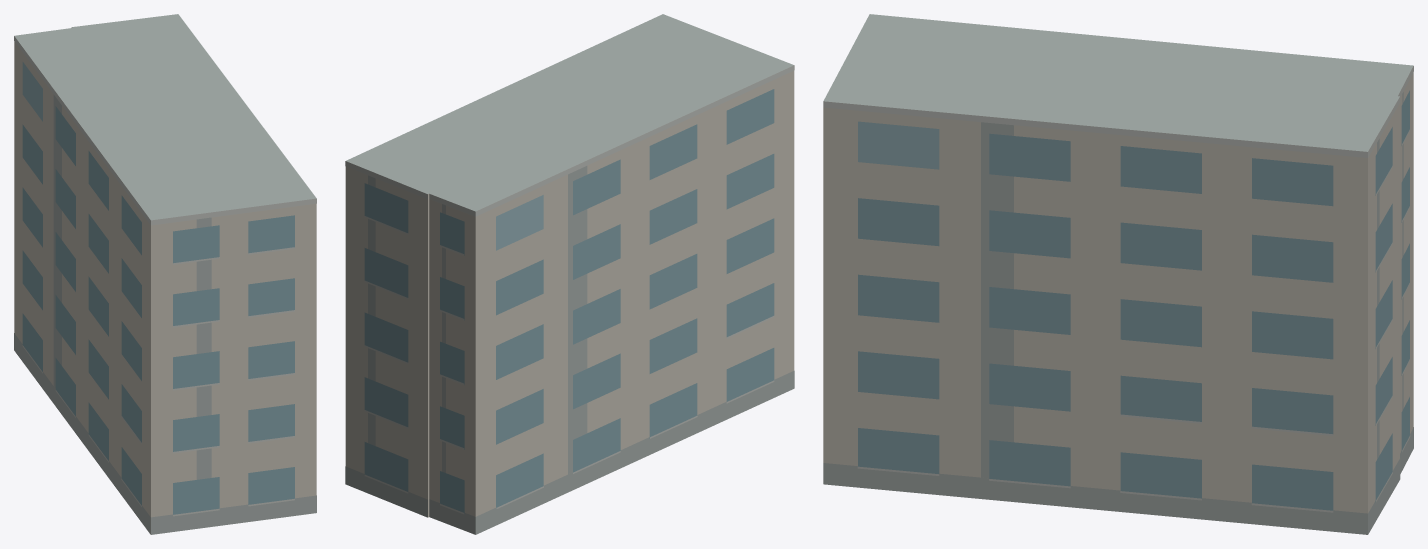
The model's file is survey-upis-32864867.glb.
3 views of the same model, side by side, from view 1: azimuth 30°, elevation 25°; view 2: azimuth 150°, elevation 25°; view 3: azimuth 270°, elevation 25° (orthographic). The views are drawn at different scales.
Visible parts, largest first — view 1: survey-upis-32864867.tmp; view 2: survey-upis-32864867.tmp; view 3: survey-upis-32864867.tmp.
Boxes of the visible parts, bbox=[...] form: survey-upis-32864867.tmp: bbox=[14, 14, 316, 534]; survey-upis-32864867.tmp: bbox=[345, 14, 794, 534]; survey-upis-32864867.tmp: bbox=[823, 14, 1413, 534].
Bounding box in the file's own units: 11.59 × 15 × 20.97.
